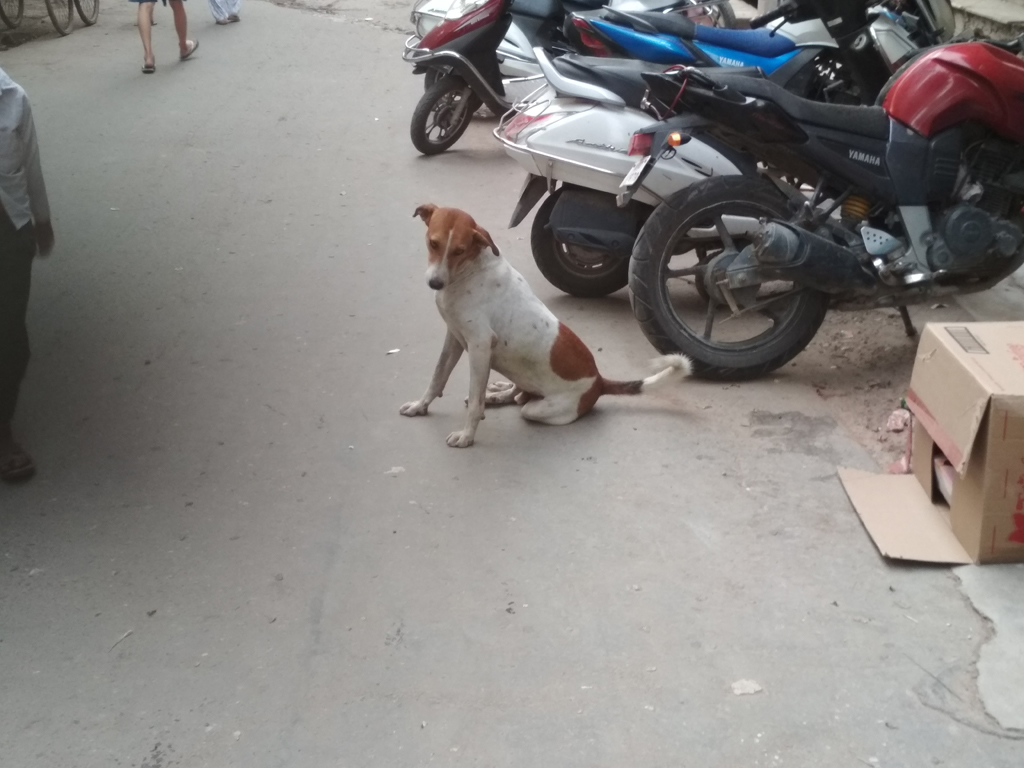dog: (399, 204, 694, 448)
